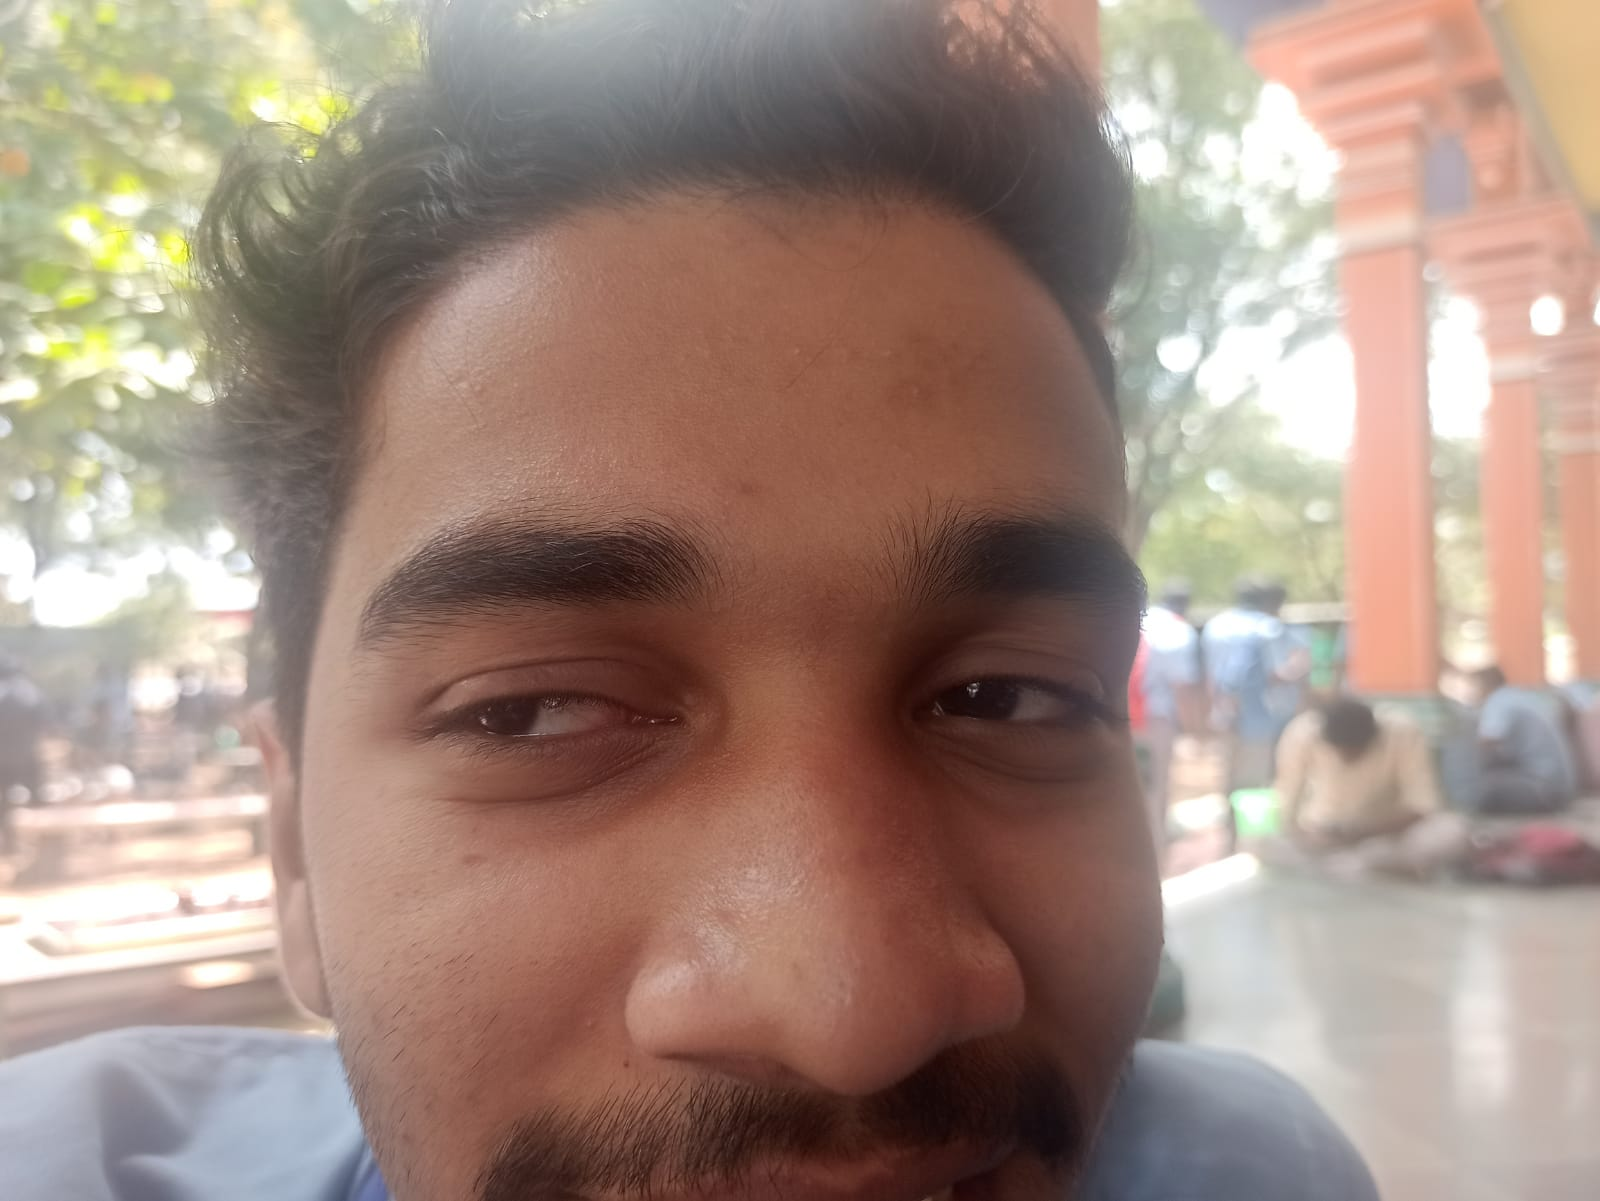EYE RIGHT: (351, 532, 741, 817), (898, 529, 1182, 835)
